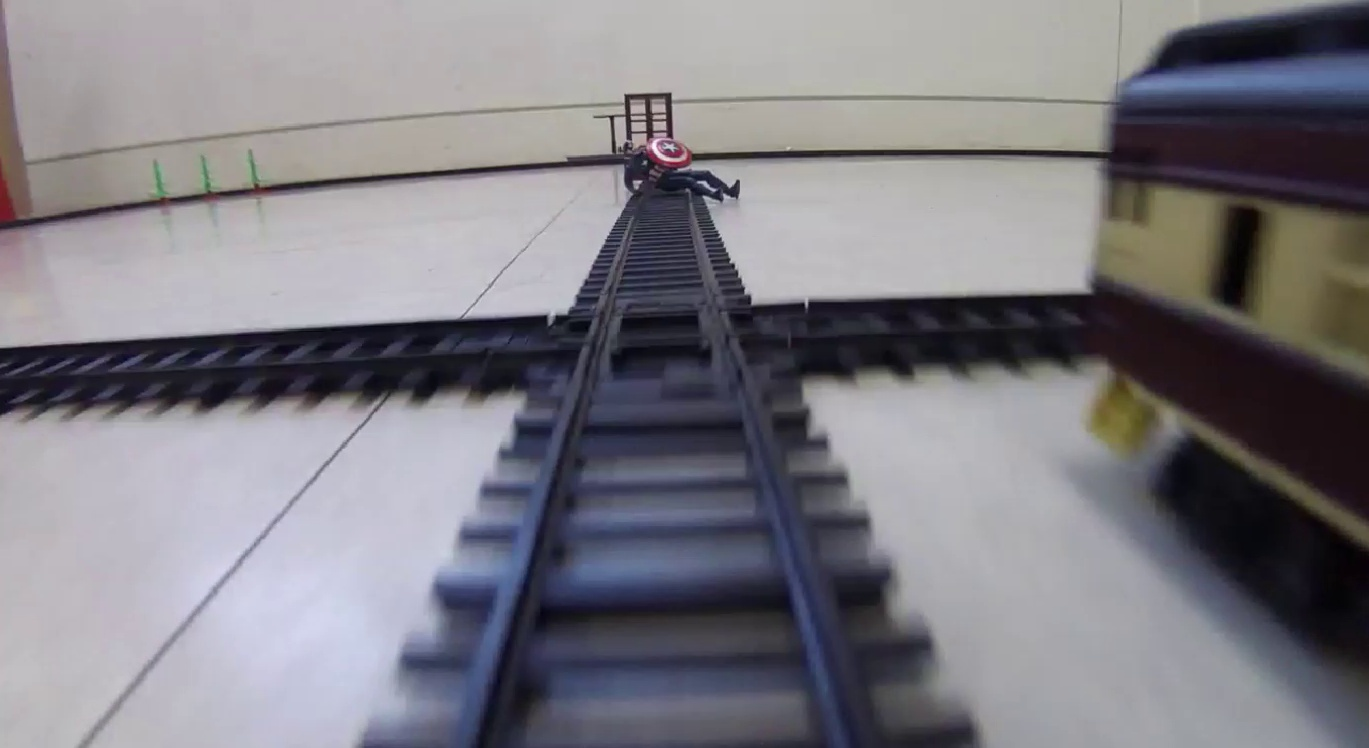people: (619, 136, 741, 203)
